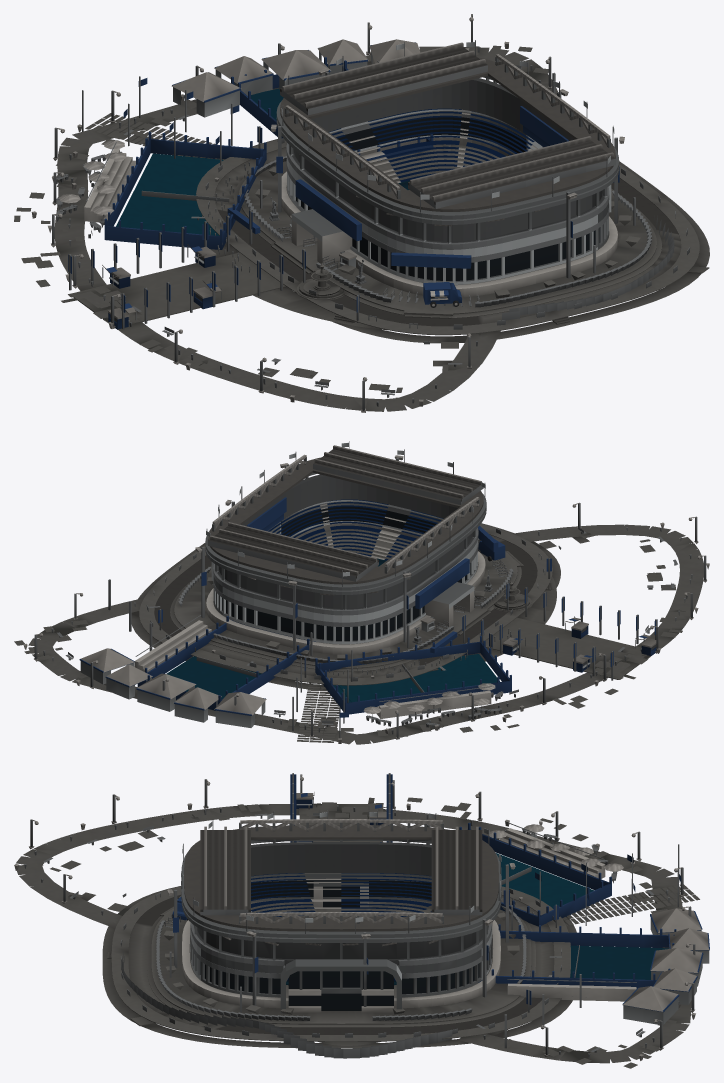
Rendered from rod-laver.glb.
The picture shows the model from 3 angles, top to bottom: view 1: azimuth 30°, elevation 25°; view 2: azimuth 150°, elevation 25°; view 3: azimuth 270°, elevation 25°; orthographic projection. The views are drawn at different scales.
Visible parts, largest first — view 1: fringe:rod-laver-forecourt, fringe:rod-laver-paths-furniture, fringe:rod-laver-roof-frame, fringe:rod-laver-arena-shell, fringe:rod-laver-signs-lights, fringe:rod-laver-event-structures, fringe:rod-laver-show-court-a, fringe:rod-laver-roof-leaf-south, fringe:rod-laver-roof-leaf-north, fringe:rod-laver-court-fences, fringe:rod-laver-bowl-court; view 2: fringe:rod-laver-paths-furniture, fringe:rod-laver-forecourt, fringe:rod-laver-roof-frame, fringe:rod-laver-arena-shell, fringe:rod-laver-signs-lights, fringe:rod-laver-event-structures, fringe:rod-laver-court-fences, fringe:rod-laver-roof-leaf-north, fringe:rod-laver-roof-leaf-south, fringe:rod-laver-show-court-a, fringe:rod-laver-bowl-court, fringe:rod-laver-show-court-b; view 3: fringe:rod-laver-forecourt, fringe:rod-laver-roof-frame, fringe:rod-laver-paths-furniture, fringe:rod-laver-arena-shell, fringe:rod-laver-court-fences, fringe:rod-laver-signs-lights, fringe:rod-laver-event-structures, fringe:rod-laver-show-court-b, fringe:rod-laver-roof-leaf-south, fringe:rod-laver-roof-leaf-north, fringe:rod-laver-bowl-court, fringe:rod-laver-show-court-a.
Part boxes in pixels (x1,y1,x2,y2): fringe:rod-laver-forecourt: (196, 138, 709, 343); fringe:rod-laver-paths-furniture: (14, 41, 674, 411); fringe:rod-laver-roof-frame: (276, 54, 619, 242); fringe:rod-laver-arena-shell: (281, 109, 617, 297); fringe:rod-laver-signs-lights: (51, 14, 635, 412); fringe:rod-laver-event-structures: (102, 39, 420, 329); fringe:rod-laver-show-court-a: (84, 142, 229, 235); fringe:rod-laver-roof-leaf-south: (280, 42, 487, 115); fringe:rod-laver-roof-leaf-north: (408, 136, 615, 208); fringe:rod-laver-court-fences: (104, 57, 433, 249); fringe:rod-laver-bowl-court: (329, 108, 537, 189); fringe:rod-laver-paths-furniture: (14, 522, 709, 744); fringe:rod-laver-forecourt: (131, 523, 560, 691); fringe:rod-laver-roof-frame: (205, 454, 486, 609); fringe:rod-laver-arena-shell: (206, 500, 485, 654); fringe:rod-laver-signs-lights: (34, 441, 706, 739); fringe:rod-laver-event-structures: (79, 587, 656, 727); fringe:rod-laver-court-fences: (137, 616, 511, 714); fringe:rod-laver-roof-leaf-north: (313, 445, 483, 504); fringe:rod-laver-roof-leaf-south: (208, 522, 378, 581); fringe:rod-laver-show-court-a: (333, 654, 499, 718); fringe:rod-laver-bowl-court: (268, 499, 443, 566); fringe:rod-laver-show-court-b: (134, 615, 261, 699); fringe:rod-laver-forecourt: (102, 886, 577, 1048); fringe:rod-laver-roof-frame: (181, 819, 501, 966); fringe:rod-laver-paths-furniture: (14, 797, 699, 1068); fringe:rod-laver-arena-shell: (182, 873, 500, 1013); fringe:rod-laver-court-fences: (459, 822, 676, 988); fringe:rod-laver-signs-lights: (29, 773, 695, 1056); fringe:rod-laver-event-structures: (296, 792, 709, 1024); fringe:rod-laver-show-court-b: (507, 945, 668, 1001); fringe:rod-laver-roof-leaf-south: (431, 826, 482, 915); fringe:rod-laver-roof-leaf-north: (200, 826, 250, 915); fringe:rod-laver-bowl-court: (251, 873, 431, 985); fringe:rod-laver-show-court-a: (496, 822, 605, 908).
Size of the model in its own units: 95.21 by 16.64 by 103.
Materials: 7 (7 with a texture image).
